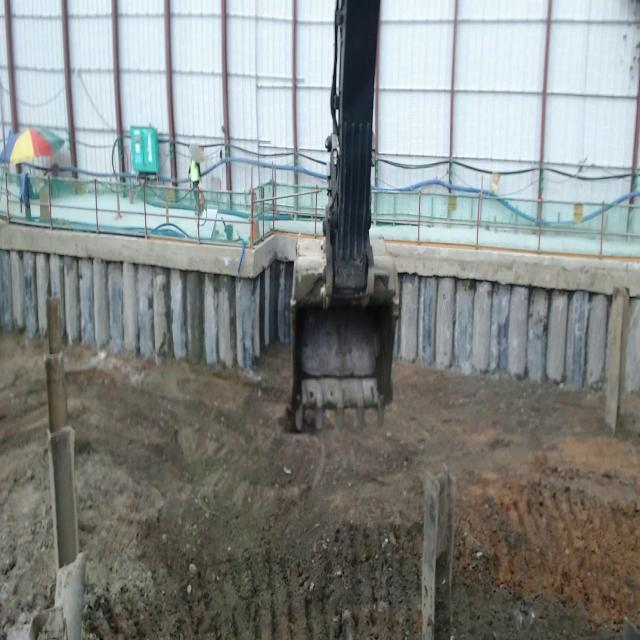red-sand: (66, 348, 640, 639), (0, 336, 54, 629)
